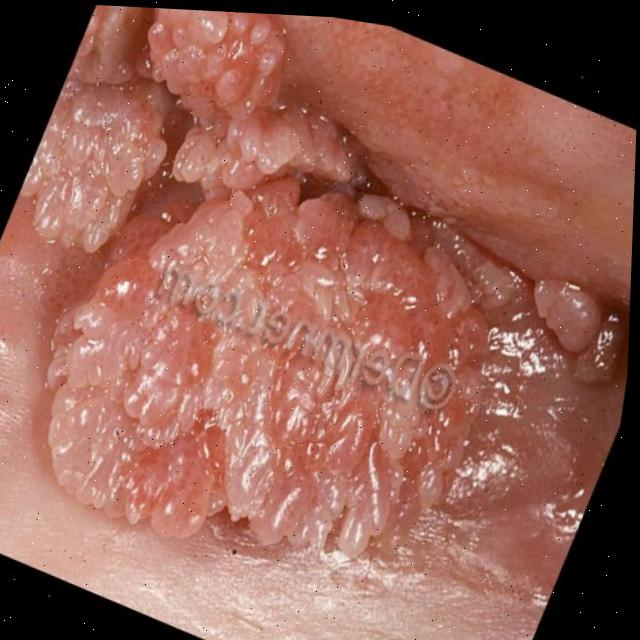Shingles: (0, 1, 567, 637)
